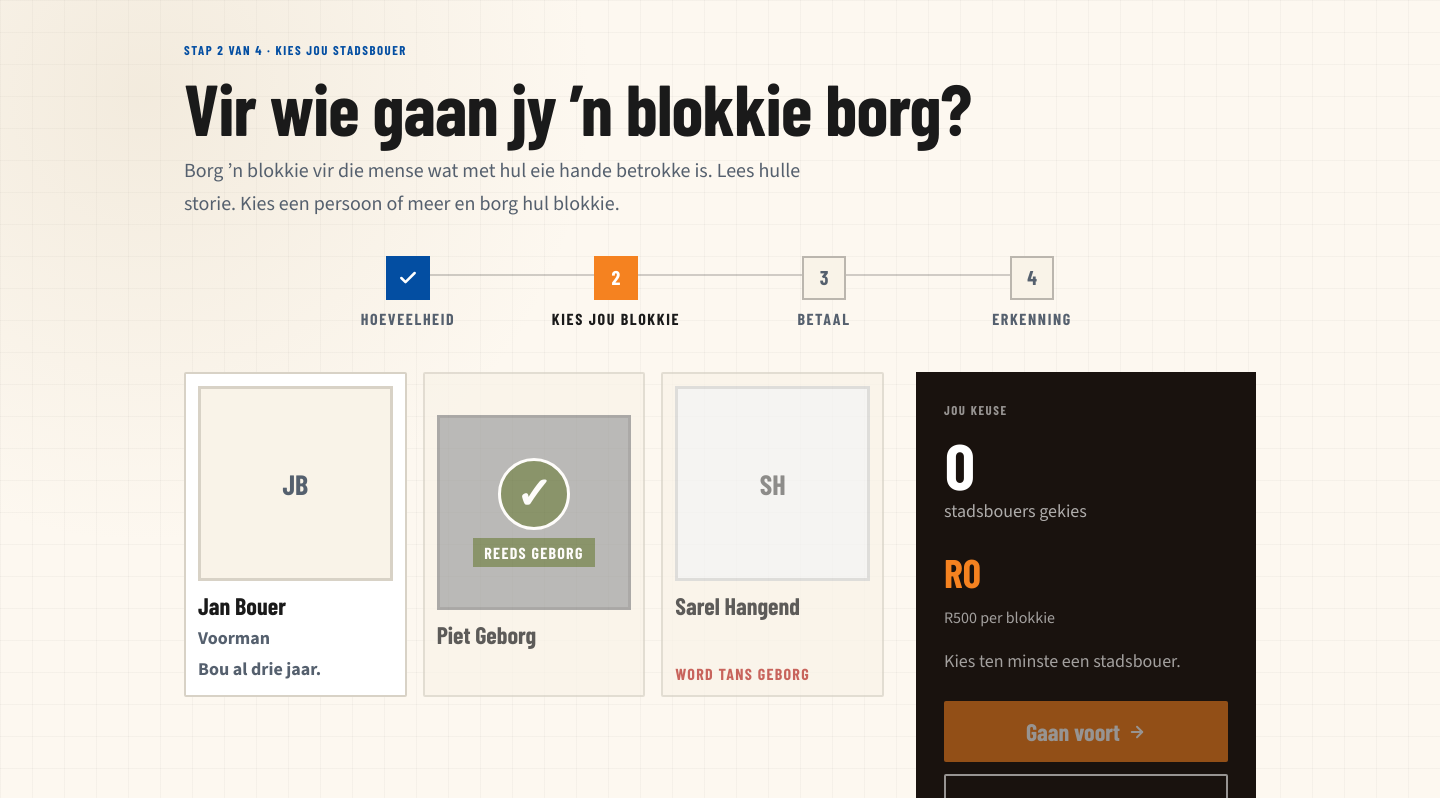
BouStadsbouersComponent › shows the tick on a chosen builder and takes it away again
The image size is (1440, 798).
Click the button with class "bouer" that starts with "Jan Bouer" at (295, 535), box [184,372,407,697]
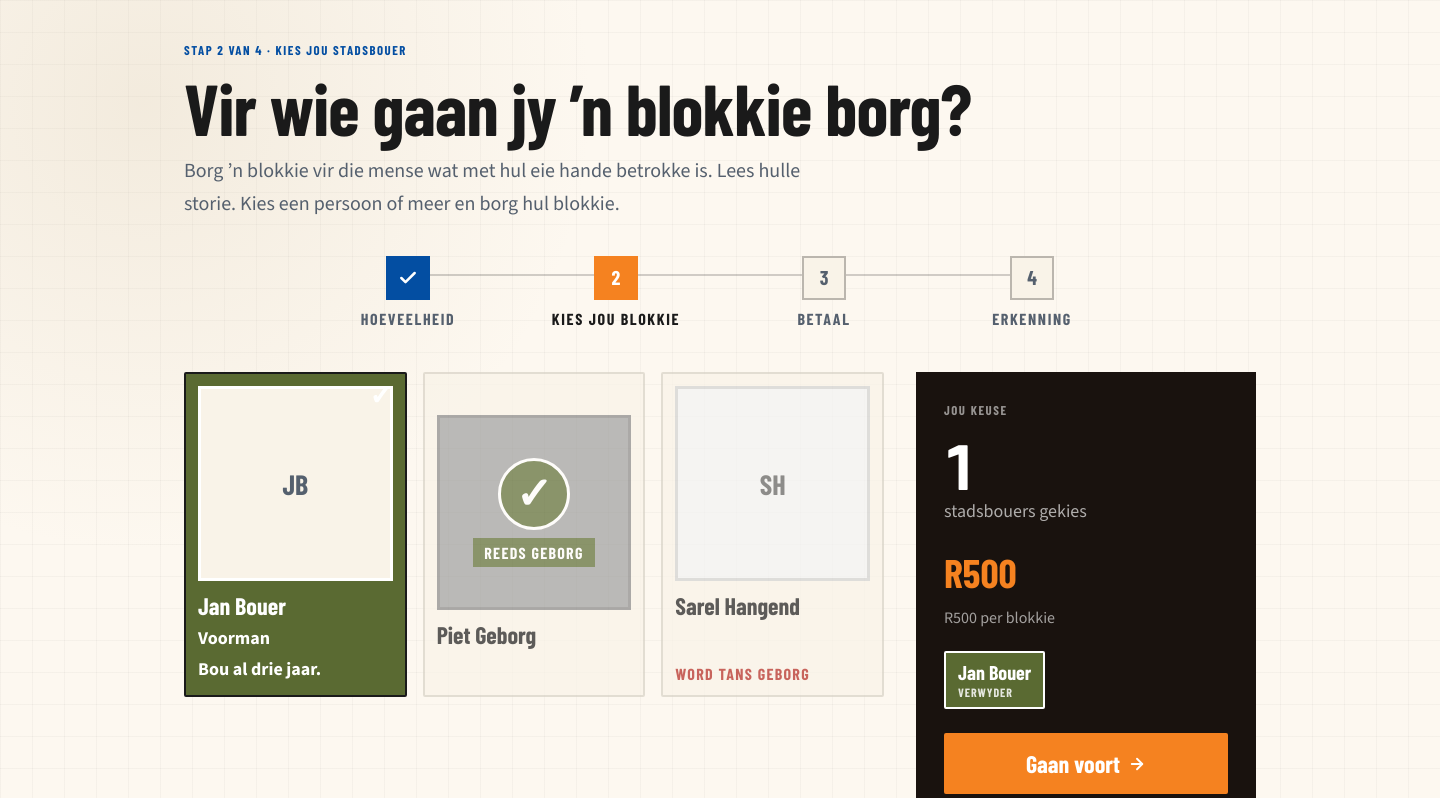
Expected: the text with class "tiek" is shown, [369,382,393,410]
Click the 1st button with class "bouer" at (295, 535), box [184,372,407,697]
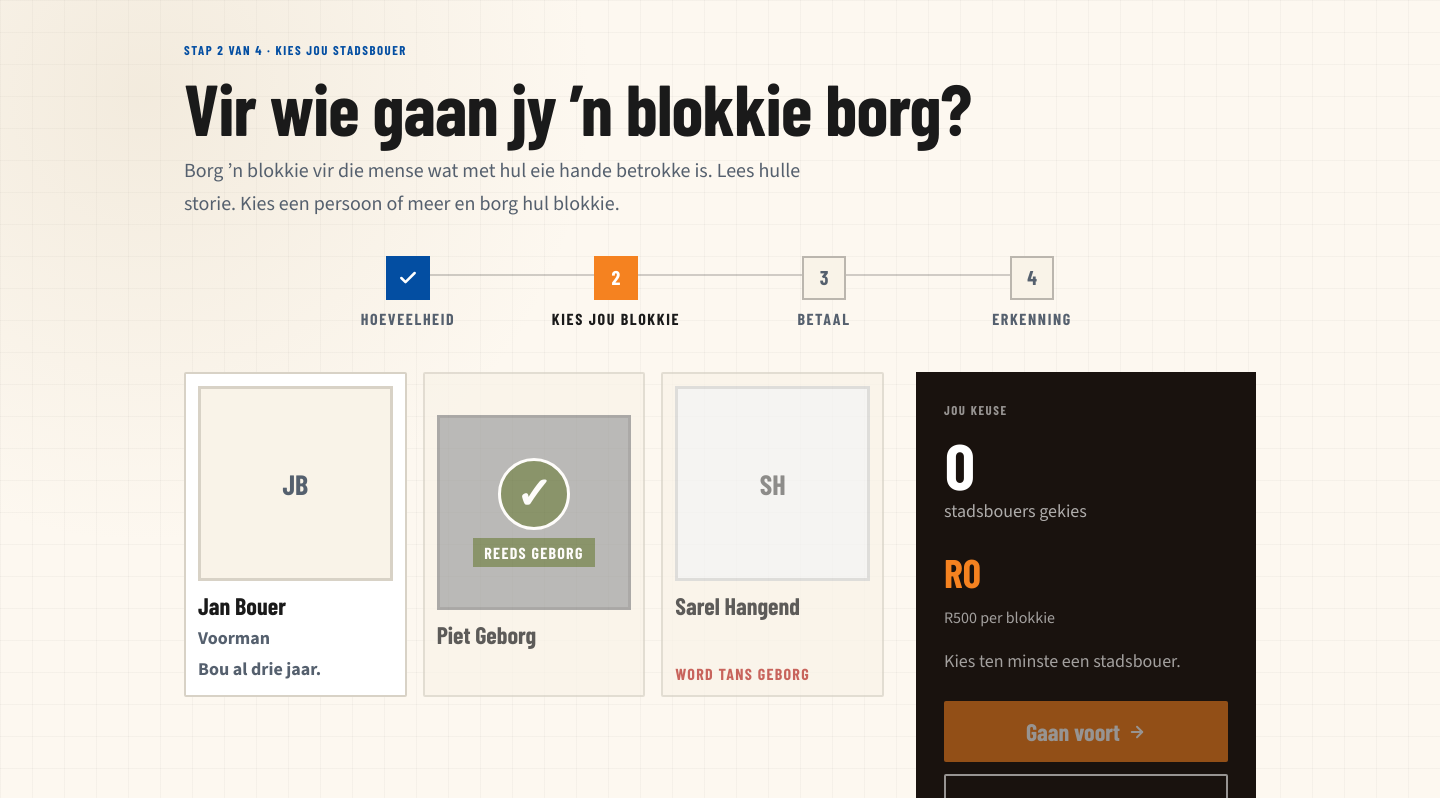
Expected: the text with class "tiek" is gone
